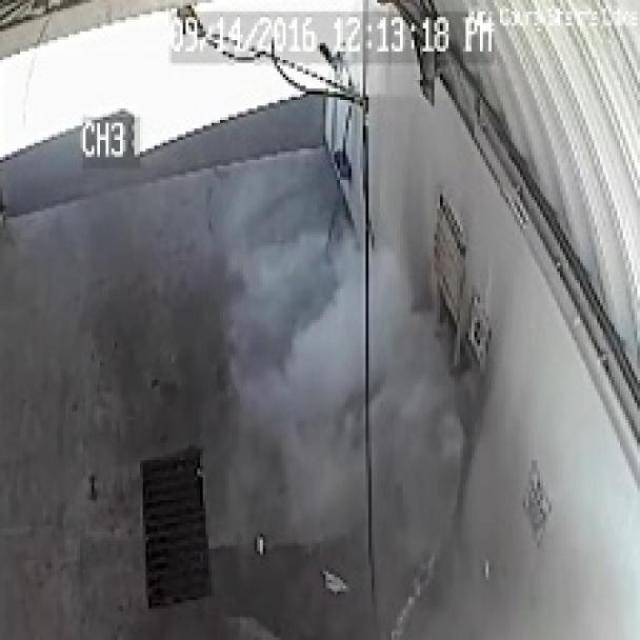Smoke: (274, 243, 443, 512)
